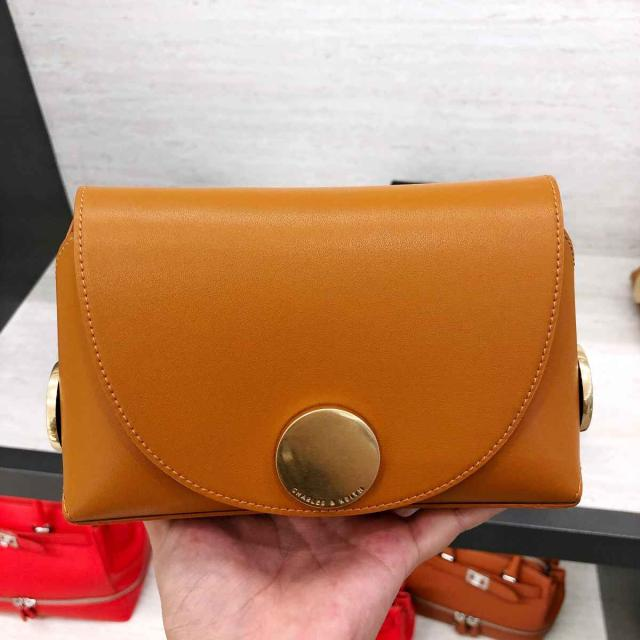Handbag: (54, 174, 581, 520)
